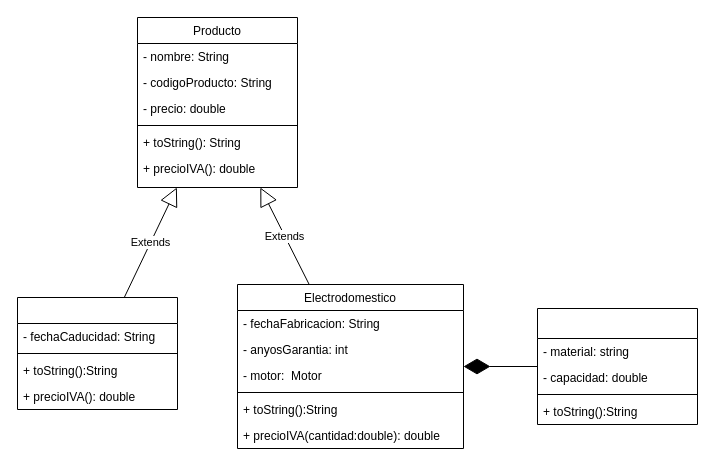
The diagram is 715 pixels wide and 469 high, and some of its shapes have lost their labels. The box of each missing label's shape, as (x1, y1, x2, y2) in pixels:
Comida: (16, 296, 178, 410)
Motor: (536, 308, 698, 424)
